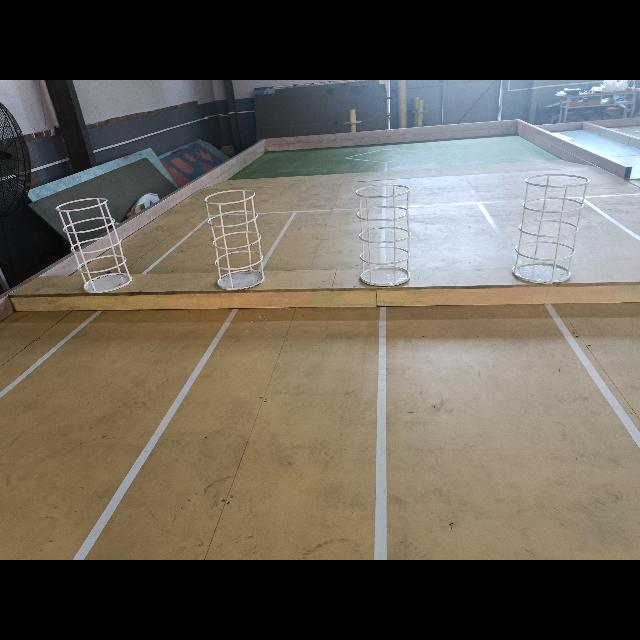S: (511, 173, 589, 283), (58, 196, 134, 294), (205, 188, 267, 292), (356, 180, 414, 288)
